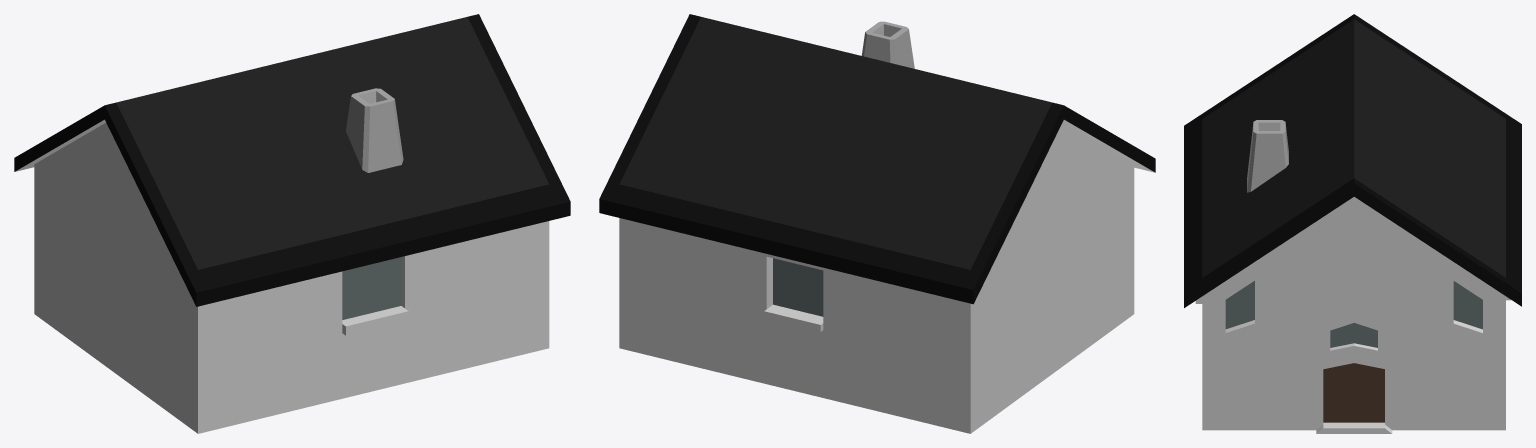
The model's file is CartoonHouse.fbx.
3 renders of one model, left to right at view 1: azimuth 30°, elevation 25°; view 2: azimuth 150°, elevation 25°; view 3: azimuth 270°, elevation 25°, orthographic. The views are drawn at different scales.
Parts seen in each view (by area): view 1: Cube; view 2: Cube; view 3: Cube.
Part boxes in pixels (<box>): Cube: <box>14,14,570,433</box>; Cube: <box>599,14,1155,433</box>; Cube: <box>1184,14,1521,433</box>.
Size of the model in its own units: 16.43 by 11.39 by 13.84.
